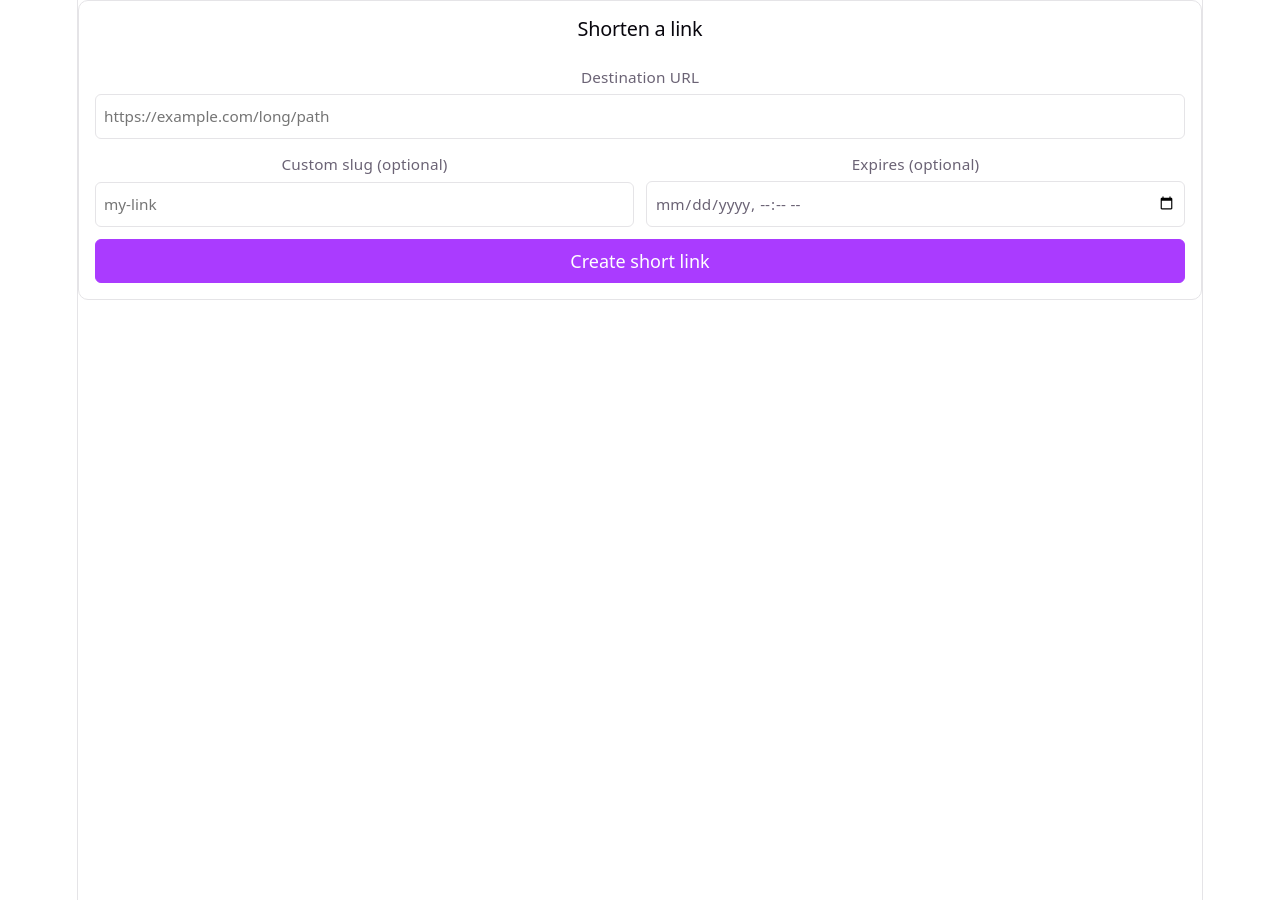
LinkForm › shows the server error and keeps what was typed
In the field labelled "Destination URL": (640,117) [95,94,1185,139], type "https://example.com"
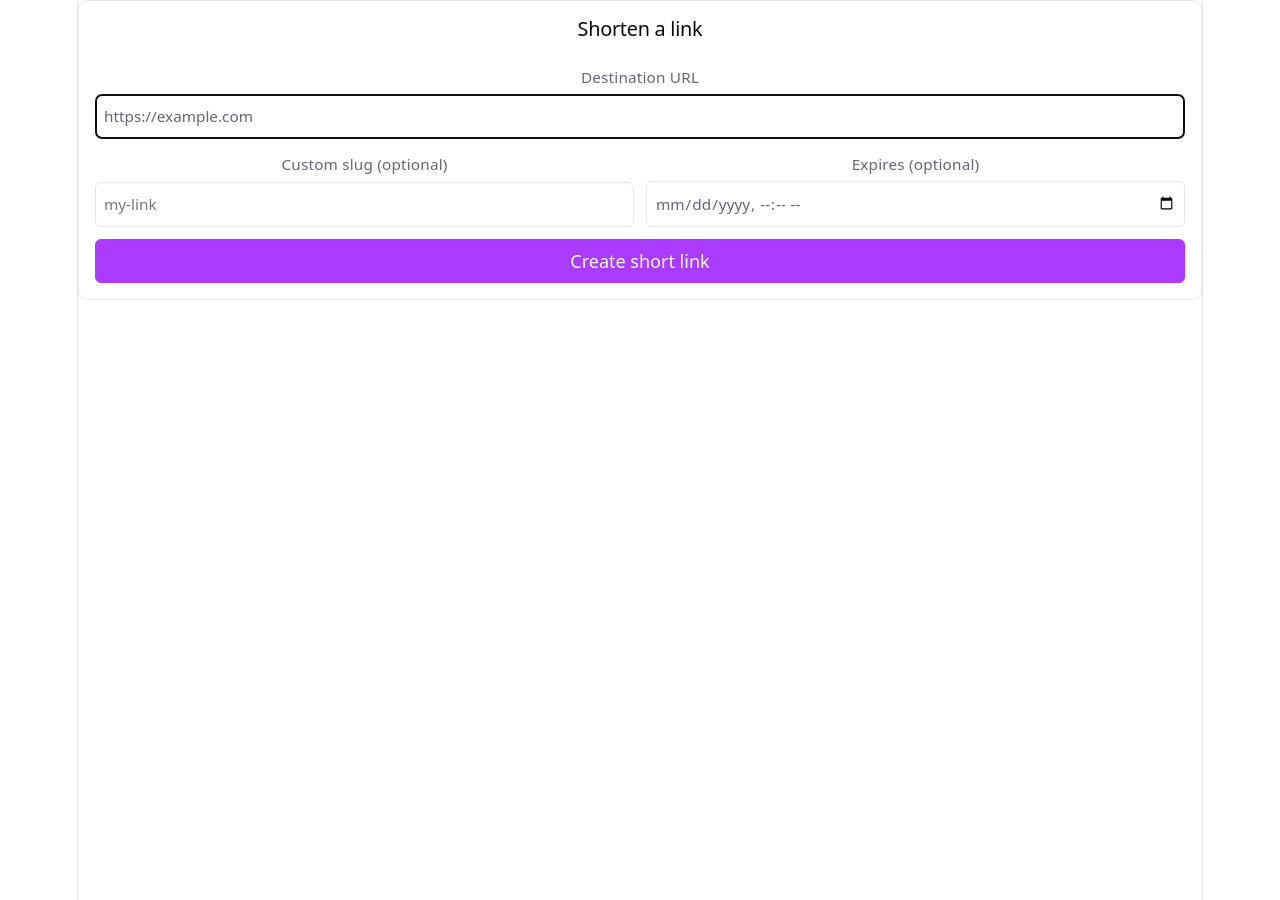
Click the button "Create short link": (640,261) [95,239,1185,283]
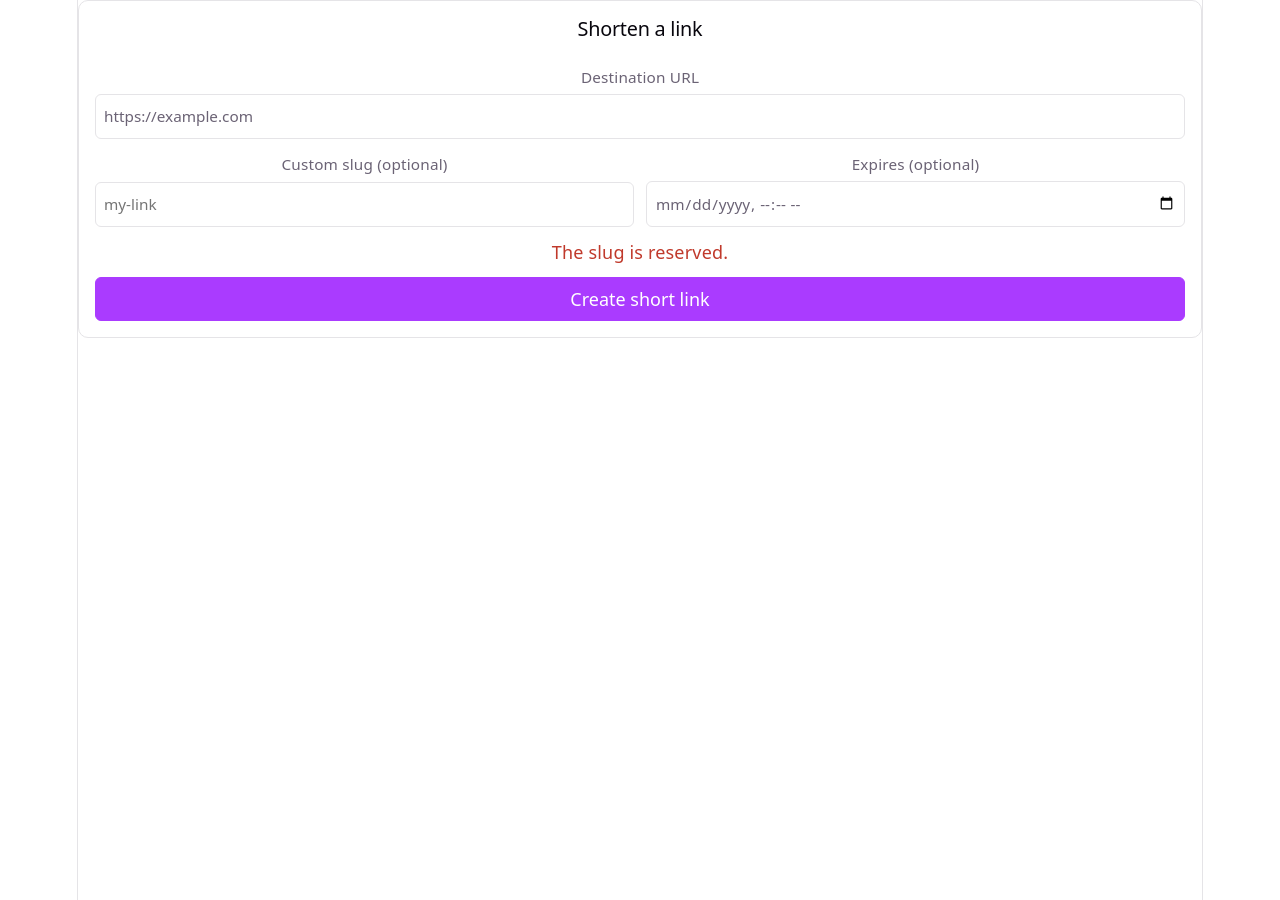
Expected: the button "Create short link" is enabled, [95,277,1185,321]
Now the message reads "The slug is reserved.", box [552,240,728,264]
